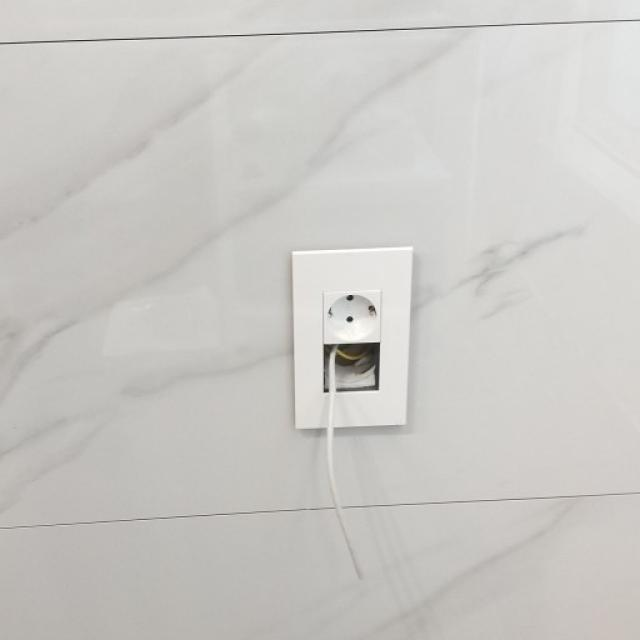typeb: (193, 184, 463, 486)
